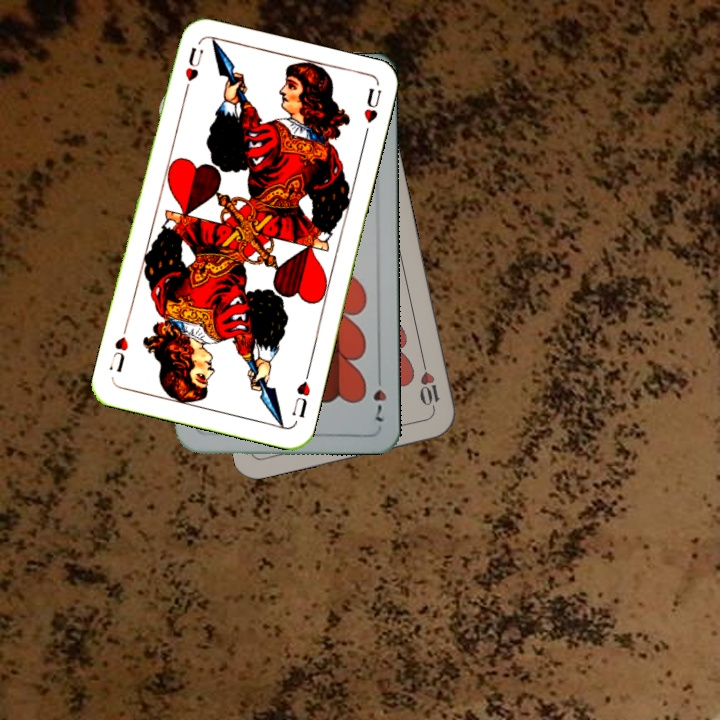H10: (416, 356, 442, 415)
H7: (370, 368, 390, 424)
HU: (179, 43, 206, 99), (288, 366, 313, 421)
